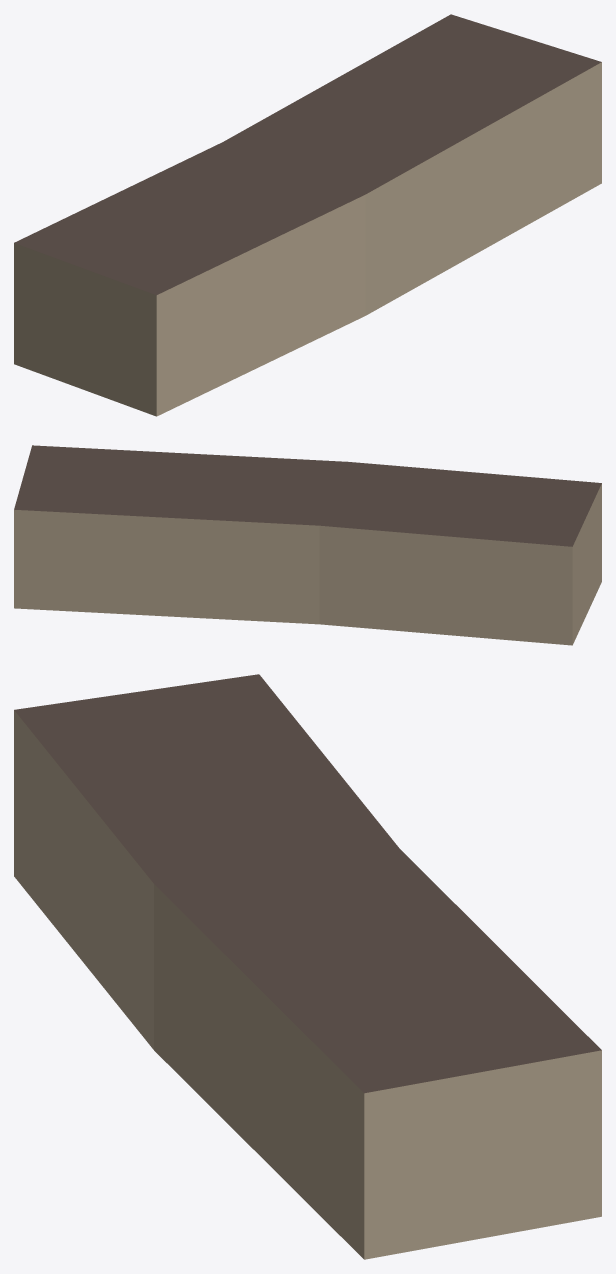
3 views of the same model, one above another, from view 1: azimuth 30°, elevation 25°; view 2: azimuth 150°, elevation 25°; view 3: azimuth 270°, elevation 25° (orthographic). The views are drawn at different scales.
Parts seen in each view (by area): view 1: HP-w859424169; view 2: HP-w859424169; view 3: HP-w859424169.
Part boxes in pixels (left/top/right/bottom): HP-w859424169: left=14, top=14, right=601, bottom=416; HP-w859424169: left=14, top=445, right=601, bottom=645; HP-w859424169: left=14, top=674, right=601, bottom=1259.
Bounding box in the file's own units: 48.6 × 9 × 28.82.
